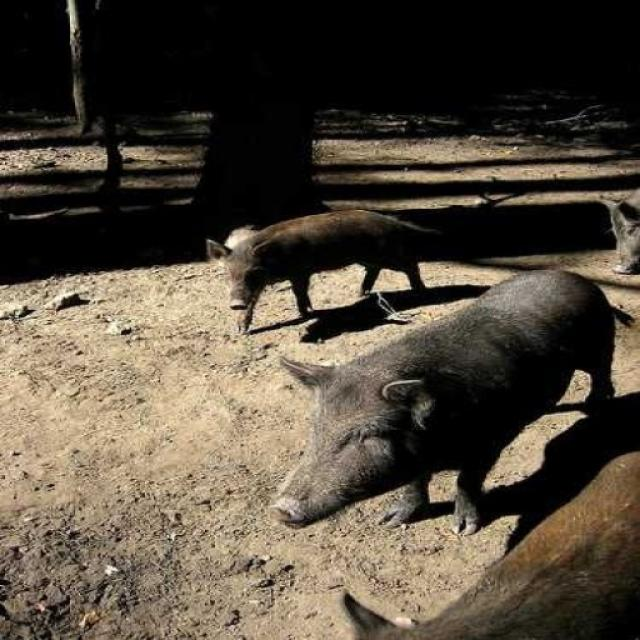pig: (260, 282, 640, 563), (201, 225, 446, 321)
